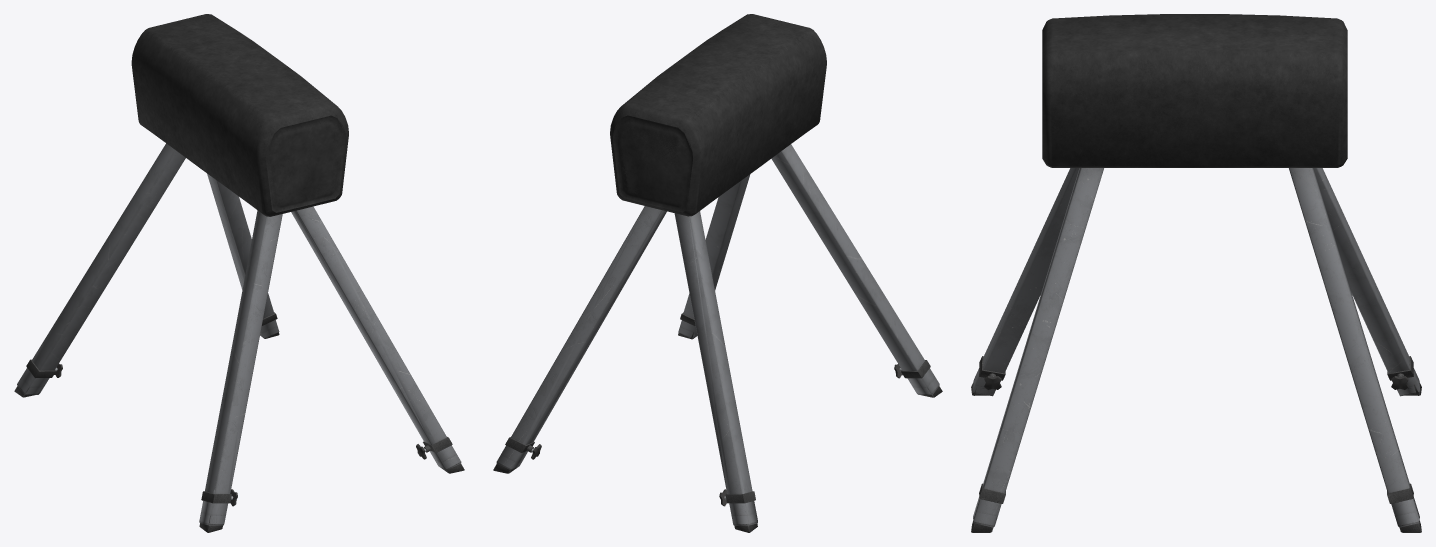
File: SportVaultingHorse01.FBX
3 renders of one model, left to right at view 1: azimuth 30°, elevation 25°; view 2: azimuth 150°, elevation 25°; view 3: azimuth 270°, elevation 25°, orthographic. The views are drawn at different scales.
Parts seen in each view (by area): view 1: VaultingHorse01_LOD0, VaultingHorse01_PhyMetal, VaultingHorse1_PhyLeather; view 2: VaultingHorse01_LOD0, VaultingHorse1_PhyLeather, VaultingHorse01_PhyMetal; view 3: VaultingHorse01_LOD0, VaultingHorse1_PhyLeather, VaultingHorse01_PhyMetal.
Part boxes in pixels (x1=…): VaultingHorse01_LOD0: x1=14, y1=14, x2=464, y2=532; VaultingHorse01_PhyMetal: x1=17, y1=175, x2=461, y2=525; VaultingHorse1_PhyLeather: x1=132, y1=14, x2=348, y2=212; VaultingHorse01_LOD0: x1=493, y1=14, x2=942, y2=532; VaultingHorse1_PhyLeather: x1=610, y1=14, x2=826, y2=212; VaultingHorse01_PhyMetal: x1=496, y1=175, x2=939, y2=525; VaultingHorse01_LOD0: x1=971, y1=14, x2=1421, y2=532; VaultingHorse1_PhyLeather: x1=1042, y1=15, x2=1346, y2=167; VaultingHorse01_PhyMetal: x1=972, y1=169, x2=1420, y2=527.
Size of what is drawn, in the model's own units: 0.8364 by 1.14 by 1.09.
